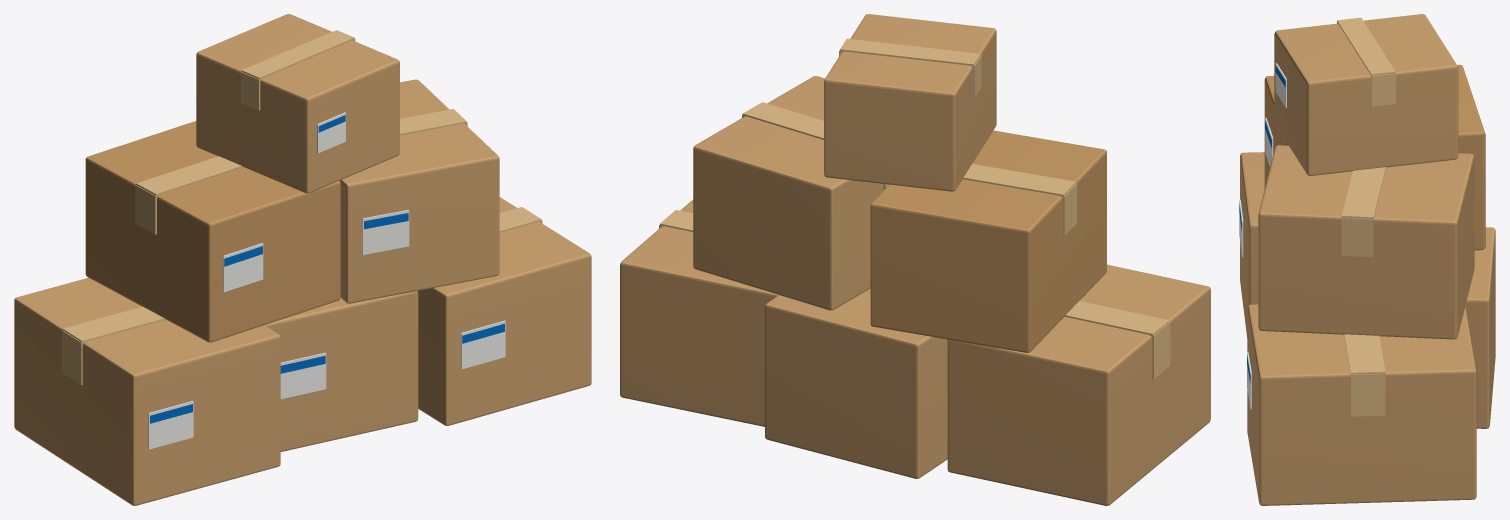
The model's file is case_stack_loose.glb.
The picture shows the model from 3 angles, left to right: view 1: azimuth 30°, elevation 25°; view 2: azimuth 150°, elevation 25°; view 3: azimuth 270°, elevation 25°; orthographic projection. The views are drawn at different scales.
Visible parts, largest first — view 1: cases_geo; view 2: cases_geo; view 3: cases_geo.
Boxes of the visible parts, x1,y1,x2,y2 form: cases_geo: [14, 14, 591, 505]; cases_geo: [620, 14, 1210, 505]; cases_geo: [1239, 14, 1495, 505].
Bounding box in the file's own units: 1.25 × 0.8745 × 0.588.
